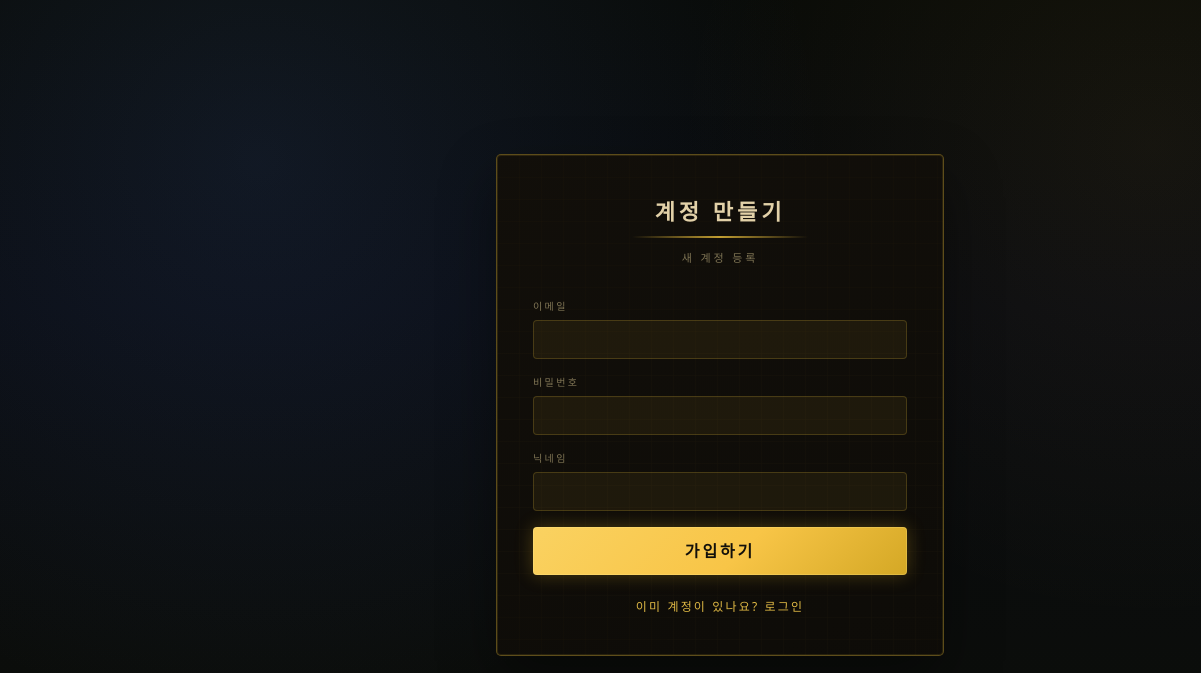
Test case: 회원가입을 제출할 때 › backend가 가입 결과를 반환하면 › verification required이면 pending 안내를 표시한다
In the field labelled "이메일": (720, 339) [533,320,907,359], type "new@lag.io"
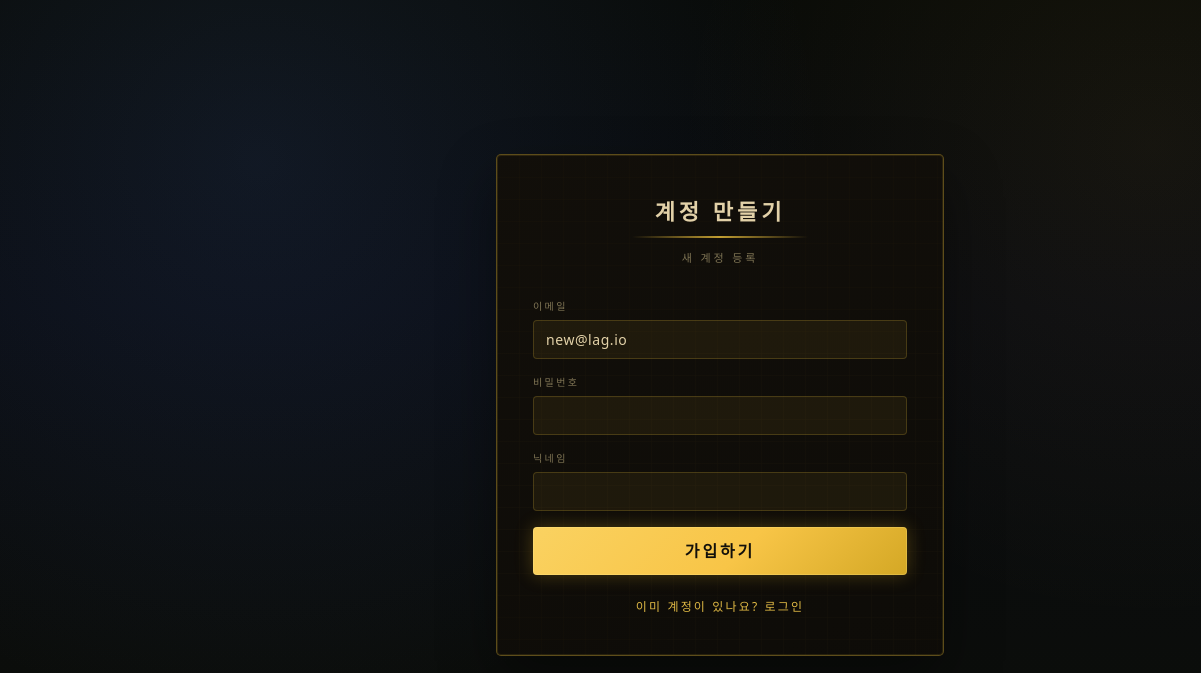
In the password field labelled "비밀번호": (720, 415) [533,396,907,435], type "password123"
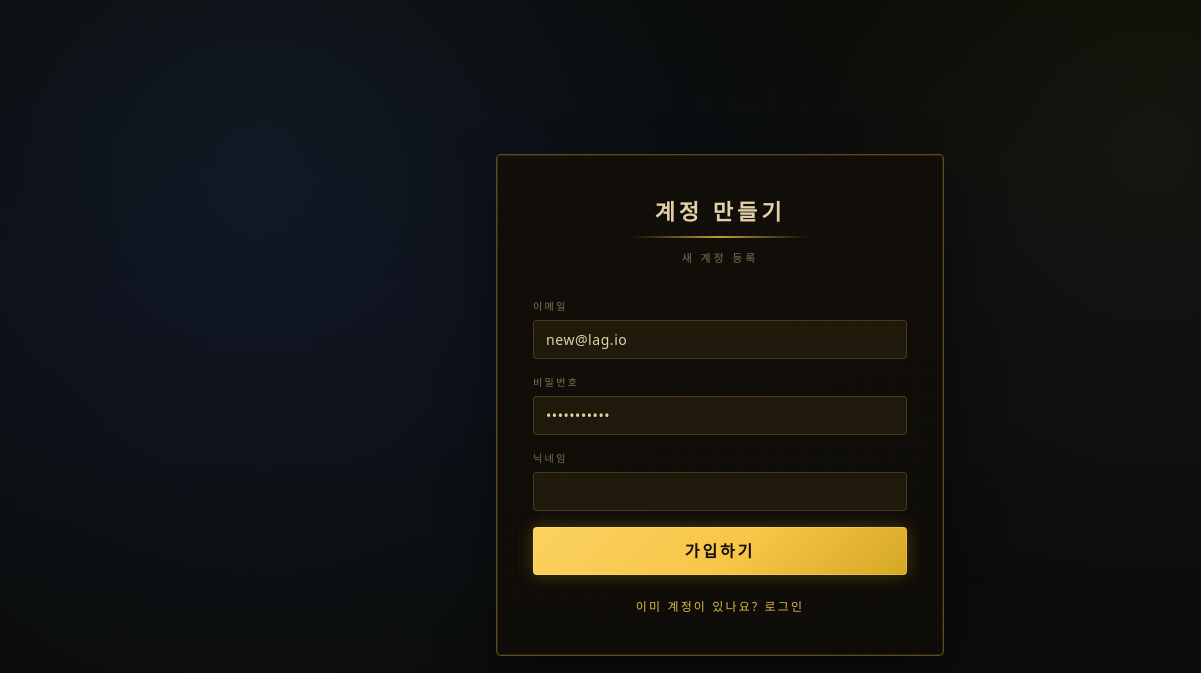
In the field labelled "닉네임": (720, 491) [533,472,907,511], type "Newbie"
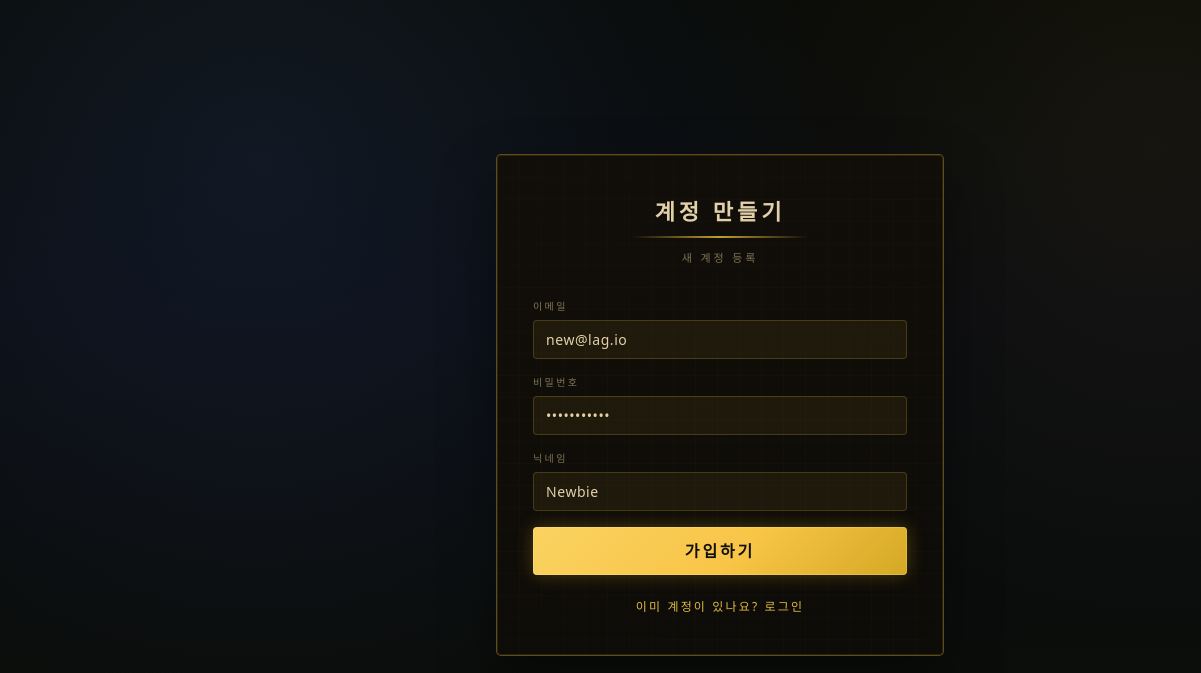
Click the button "가입하기": click(720, 551) [533,527,907,575]
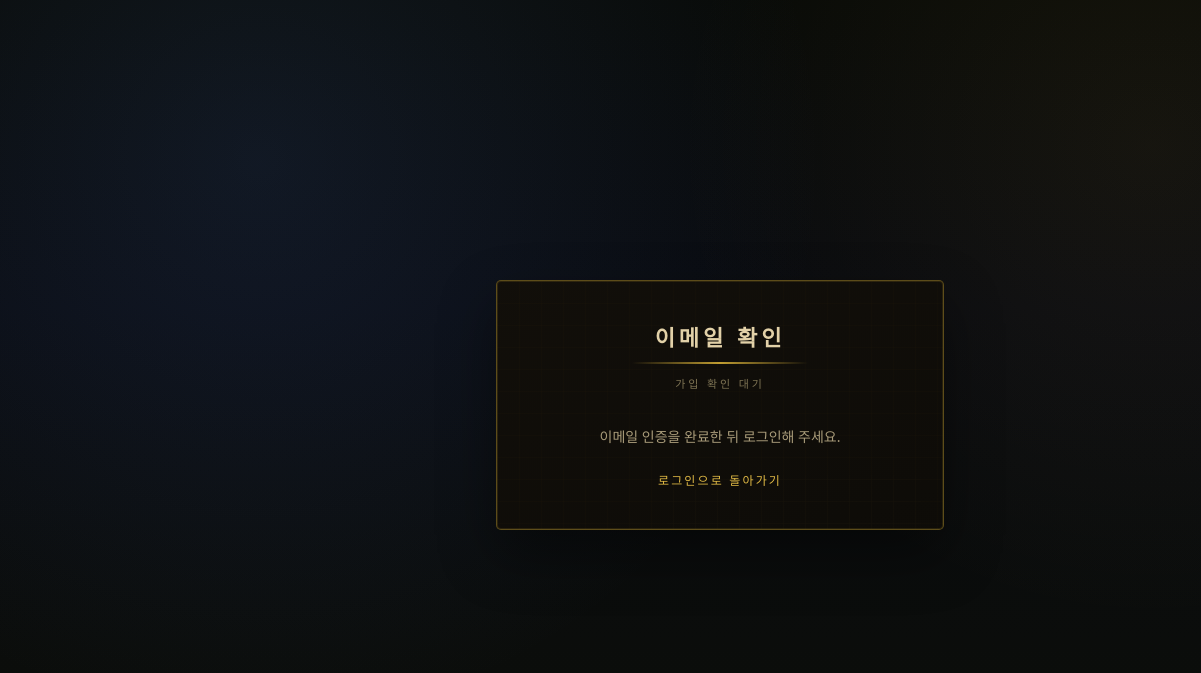
expect the text "이메일 인증을 완료한 뒤 로그인해 주세요." is shown: met, box [600,427,840,446]
